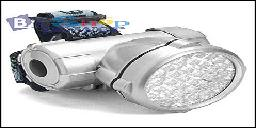LED: (135, 45, 246, 116)
